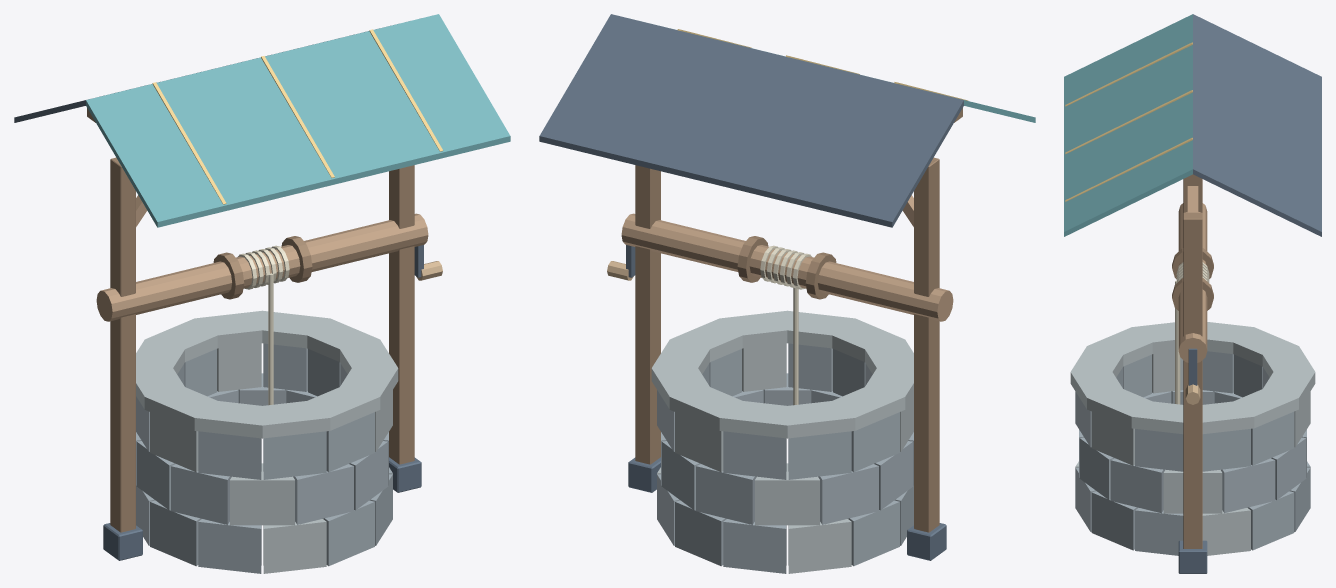
File: well.glb
The picture shows the model from 3 angles, left to right: view 1: azimuth 30°, elevation 25°; view 2: azimuth 150°, elevation 25°; view 3: azimuth 270°, elevation 25°; orthographic projection. The views are drawn at different scales.
Parts seen in each view (by area): view 1: well_front_roof, well_open_rim, well_windlass, well_roof_post, well_roof_post.001, well_masonry_block.019, well_masonry_block.007, well_masonry_block.008, well_masonry_block.018, well_masonry_block.020, well_masonry_block.031, well_masonry_block.032 (+19 smaller); view 2: well_back_roof, well_open_rim, well_windlass, well_roof_post, well_roof_post.001, well_masonry_block.015, well_masonry_block.003, well_masonry_block.004, well_masonry_block.014, well_masonry_block.016, well_masonry_block.027, well_masonry_block.028 (+19 smaller); view 3: well_back_roof, well_front_roof, well_open_rim, well_roof_post.001, well_masonry_block.012, well_masonry_block.022, well_masonry_block, well_masonry_block.011, well_masonry_block.001, well_masonry_block.010, well_masonry_block.024, well_masonry_block.035 (+22 smaller).
Boxes of the visible parts, x1=… form: well_front_roof: x1=86, y1=14, x2=510, y2=227; well_open_rim: x1=136, y1=310, x2=398, y2=438; well_windlass: x1=96, y1=213, x2=428, y2=321; well_roof_post: x1=110, y1=157, x2=135, y2=532; well_roof_post.001: x1=389, y1=165, x2=414, y2=464; well_masonry_block.019: x1=230, y1=463, x2=294, y2=525; well_masonry_block.007: x1=198, y1=519, x2=261, y2=573; well_masonry_block.008: x1=263, y1=519, x2=326, y2=573; well_masonry_block.018: x1=171, y1=464, x2=231, y2=524; well_masonry_block.020: x1=293, y1=464, x2=353, y2=524; well_masonry_block.031: x1=198, y1=431, x2=261, y2=479; well_masonry_block.032: x1=263, y1=431, x2=326, y2=479; well_back_roof: x1=539, y1=14, x2=963, y2=227; well_open_rim: x1=651, y1=310, x2=913, y2=438; well_windlass: x1=621, y1=213, x2=953, y2=321; well_roof_post: x1=914, y1=157, x2=939, y2=532; well_roof_post.001: x1=635, y1=165, x2=660, y2=464; well_masonry_block.015: x1=755, y1=463, x2=819, y2=525; well_masonry_block.003: x1=723, y1=519, x2=786, y2=573; well_masonry_block.004: x1=788, y1=519, x2=851, y2=573; well_masonry_block.014: x1=696, y1=464, x2=756, y2=524; well_masonry_block.016: x1=818, y1=464, x2=878, y2=524; well_masonry_block.027: x1=723, y1=431, x2=786, y2=479; well_masonry_block.028: x1=788, y1=431, x2=851, y2=479; well_back_roof: x1=1193, y1=14, x2=1321, y2=236; well_front_roof: x1=1064, y1=14, x2=1192, y2=236; well_open_rim: x1=1070, y1=322, x2=1315, y2=434; well_roof_post.001: x1=1183, y1=212, x2=1202, y2=548; well_masonry_block.012: x1=1221, y1=458, x2=1275, y2=513; well_masonry_block.022: x1=1110, y1=458, x2=1164, y2=513; well_masonry_block: x1=1202, y1=508, x2=1250, y2=555; well_masonry_block.011: x1=1135, y1=508, x2=1183, y2=555; well_masonry_block.001: x1=1247, y1=491, x2=1294, y2=550; well_masonry_block.010: x1=1091, y1=491, x2=1138, y2=550; well_masonry_block.024: x1=1202, y1=429, x2=1250, y2=471; well_masonry_block.035: x1=1135, y1=429, x2=1183, y2=471.
Bounding box in the file's own units: 2.28 × 2.86 × 1.6.
